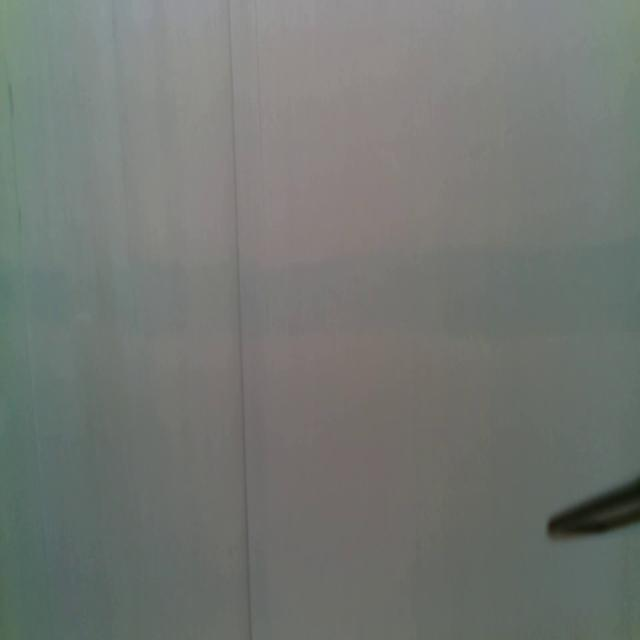color bleeding: (1, 238, 640, 343)
crease: (229, 0, 257, 640)
